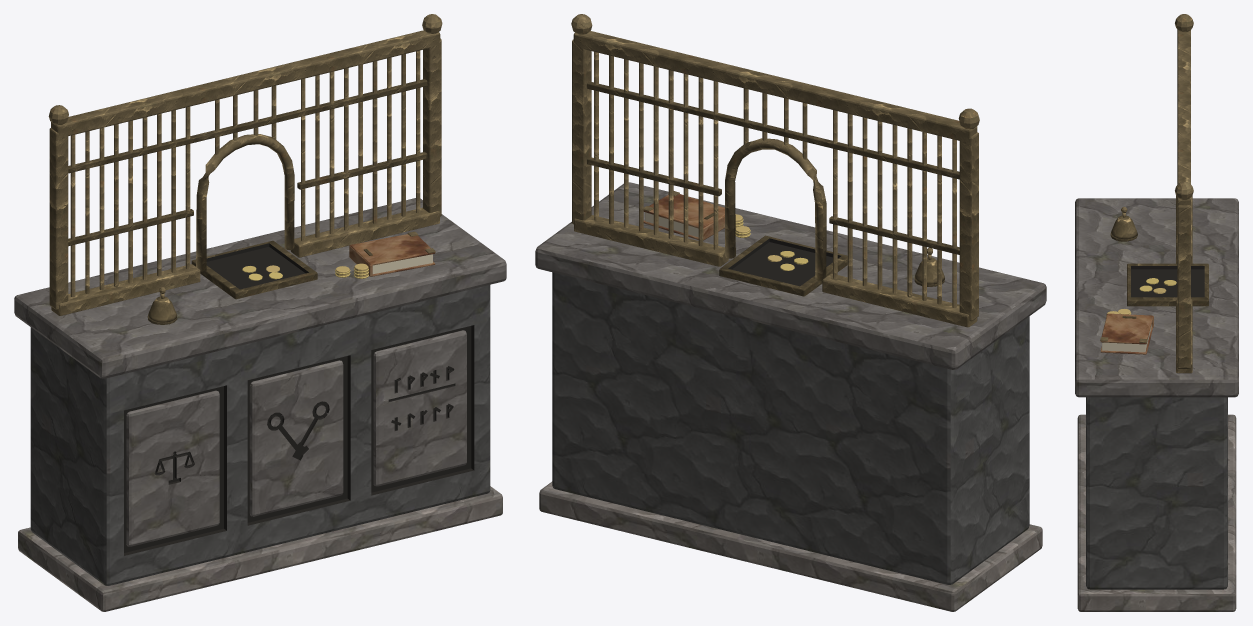
Rendered from bv_teller_counter.glb.
3 renders of one model, left to right at view 1: azimuth 30°, elevation 25°; view 2: azimuth 150°, elevation 25°; view 3: azimuth 270°, elevation 25°, orthographic. The views are drawn at different scales.
Parts seen in each view (by area): view 1: model; view 2: model; view 3: model.
Part boxes in pixels (x1,y1,x2,y2): model: (14, 14, 506, 611); model: (535, 14, 1046, 611); model: (1075, 14, 1238, 611).
Size of the model in its own units: 1.58 by 1.71 by 0.6.
16 materials, 8 textured.
